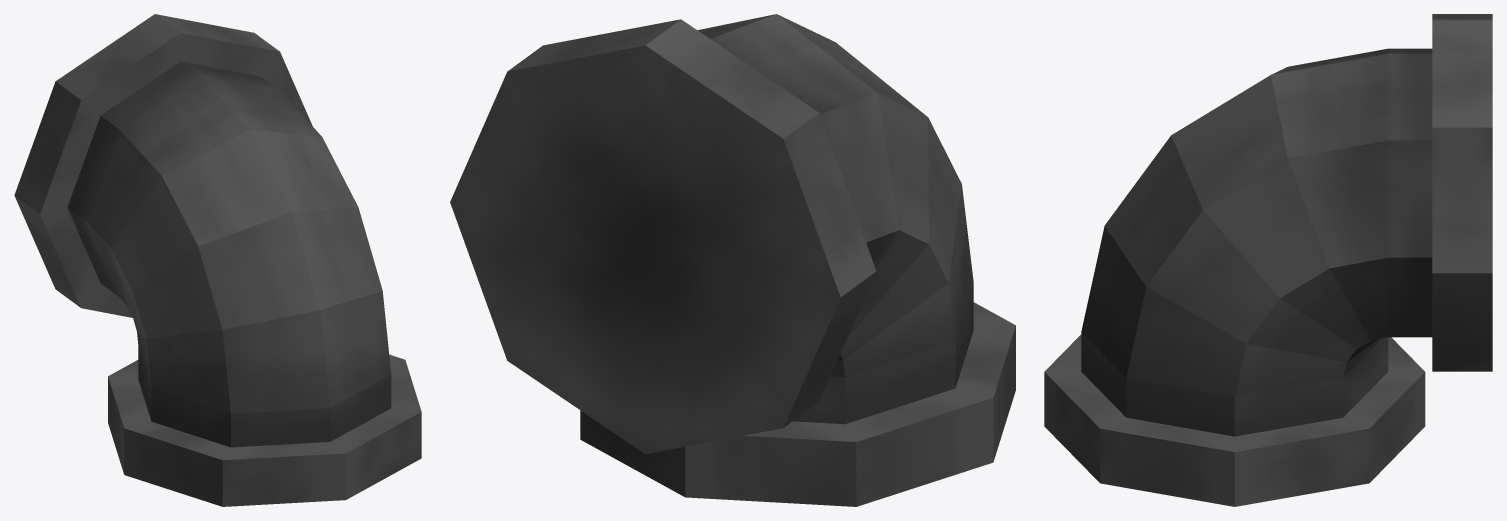
Rendered from pipe_corner.obj.
3 renders of one model, left to right at view 1: azimuth 30°, elevation 25°; view 2: azimuth 150°, elevation 25°; view 3: azimuth 270°, elevation 25°, orthographic. The views are drawn at different scales.
Visible parts, largest first — view 1: pipe_corner; view 2: pipe_corner; view 3: pipe_corner.
Boxes of the visible parts, x1=… form: pipe_corner: x1=14, y1=14, x2=421, y2=506; pipe_corner: x1=450, y1=14, x2=1015, y2=506; pipe_corner: x1=1044, y1=14, x2=1492, y2=506.
Size of the model in its own units: 0.124 by 0.146 by 0.146.
